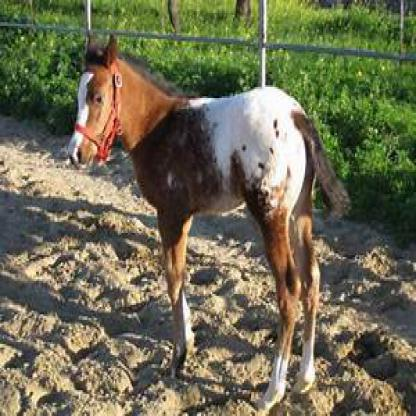horse: (66, 32, 336, 408)
